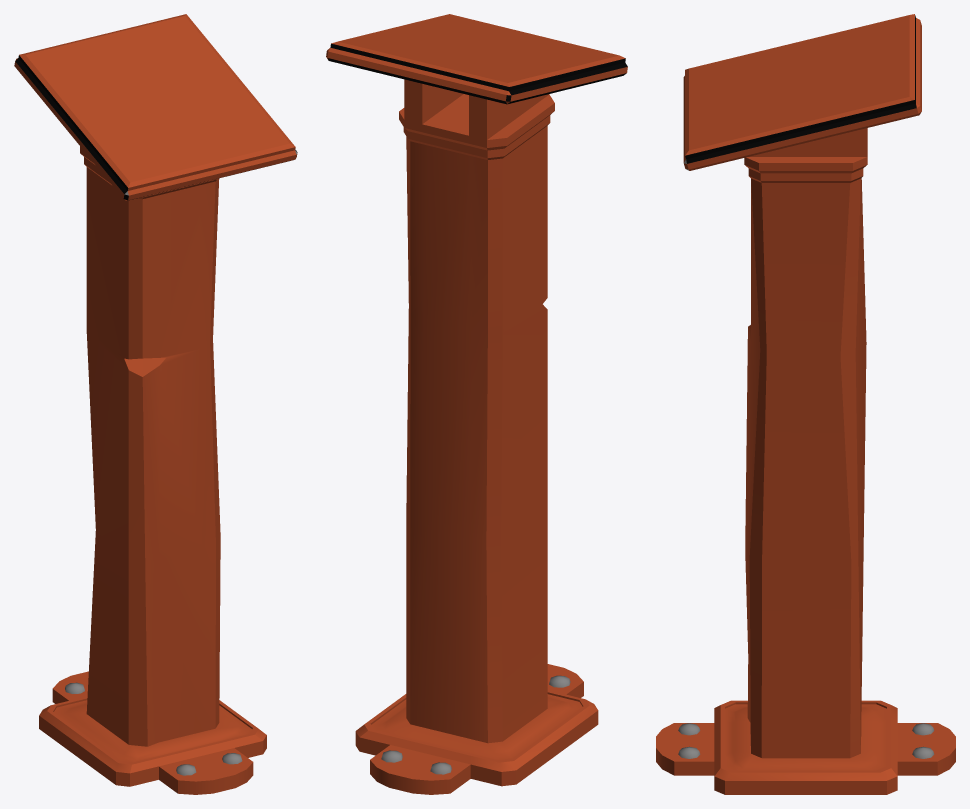
Rendered from SM_Pedestal.fbx.
3 views of the same model, side by side, from view 1: azimuth 30°, elevation 25°; view 2: azimuth 150°, elevation 25°; view 3: azimuth 270°, elevation 25° (orthographic). The views are drawn at different scales.
Parts seen in each view (by area): view 1: Box001; view 2: Box001; view 3: Box001.
Part boxes in pixels (bbox=[...]): Box001: bbox=[14, 14, 297, 794]; Box001: bbox=[326, 14, 627, 794]; Box001: bbox=[656, 14, 955, 794].
Size of the model in its own units: 0.1837 by 0.676 by 0.262.
